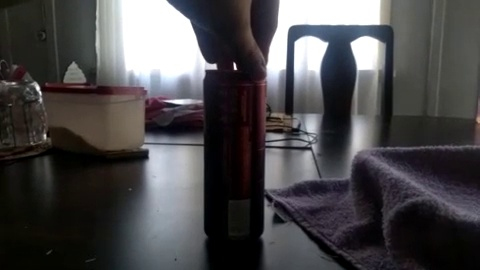bohemia: (181, 55, 283, 254)
